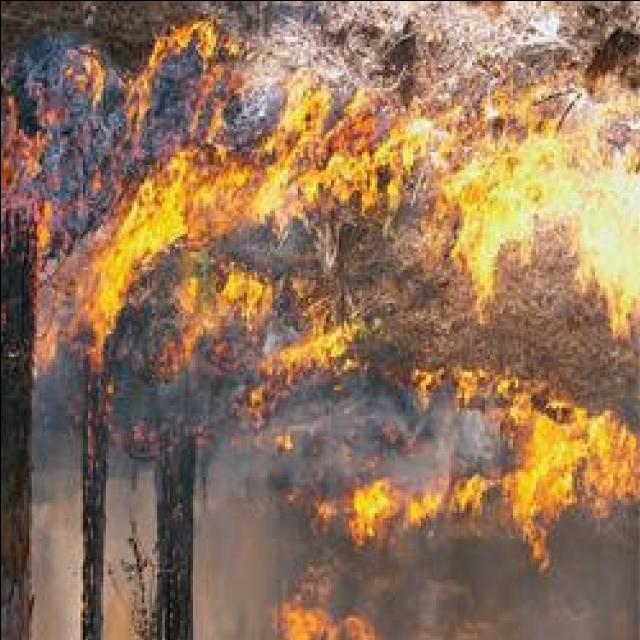fire: (478, 402, 640, 526), (336, 482, 468, 544), (592, 182, 640, 284), (466, 166, 521, 236), (130, 201, 174, 247)
smoke: (196, 440, 283, 627), (436, 404, 486, 460)
